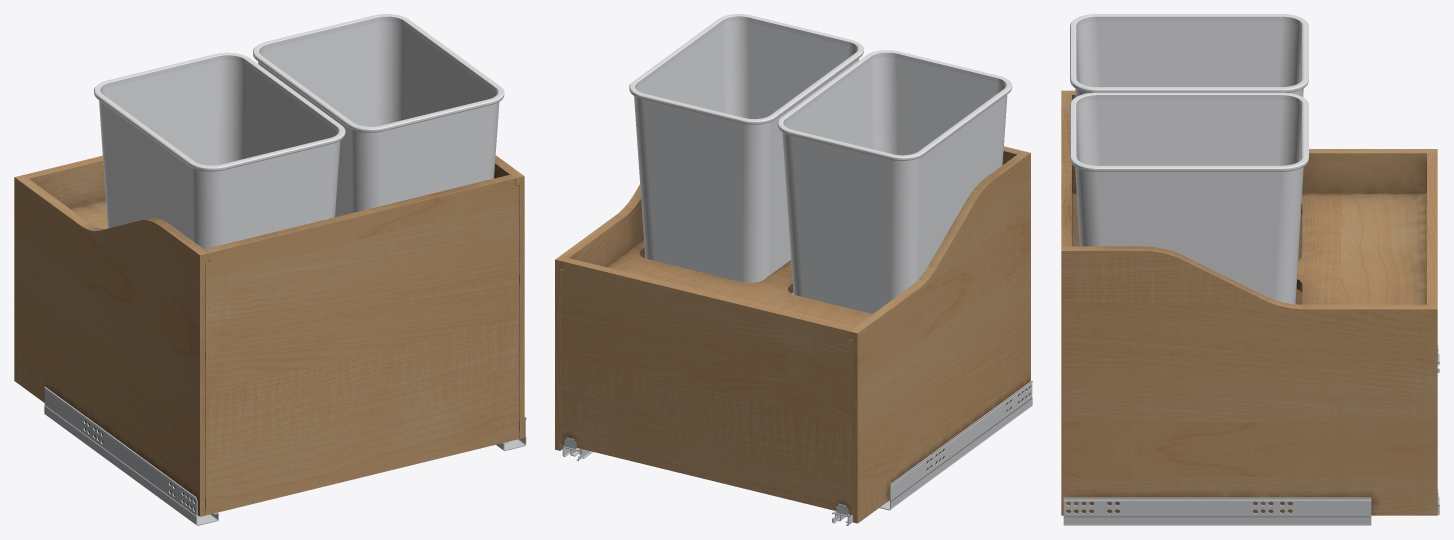
Rendered from inserts-double-trash-pullout-side-by-side.glb.
3 renders of one model, left to right at view 1: azimuth 30°, elevation 25°; view 2: azimuth 150°, elevation 25°; view 3: azimuth 270°, elevation 25°, orthographic. The views are drawn at different scales.
Visible parts, largest first — view 1: insert; view 2: insert; view 3: insert.
Part boxes in pixels (x1=…): insert: x1=14, y1=14, x2=526, y2=525; insert: x1=555, y1=14, x2=1032, y2=525; insert: x1=1061, y1=14, x2=1439, y2=525.
Size of the model in its own units: 0.571 by 0.5779 by 0.5588.
Materials: 6 (1 with a texture image).
